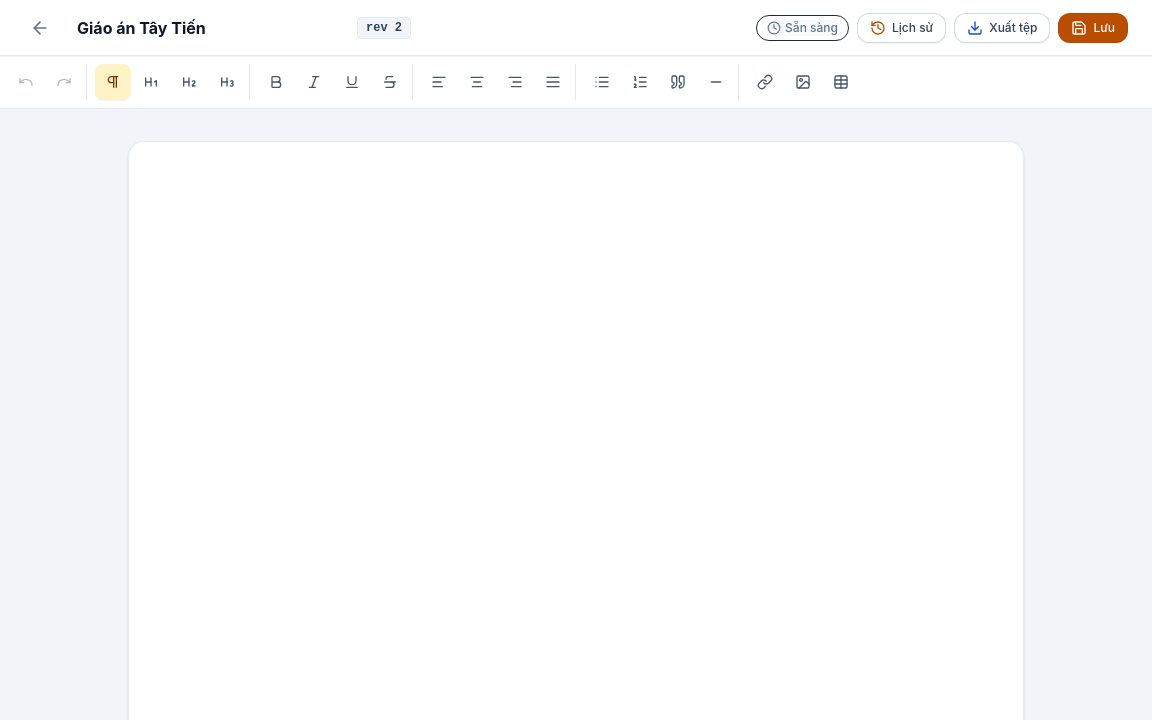
Test case: DocumentEditorPage › opens ExportModal when clicking "Xuất tệp"
This screenshot has width=1152, height=720.
Expected: the field showing "Giáo án Tây Tiến" is shown, [68, 10, 349, 44]
Click the button "Xuất tệp": click(1002, 28) [954, 12, 1050, 42]
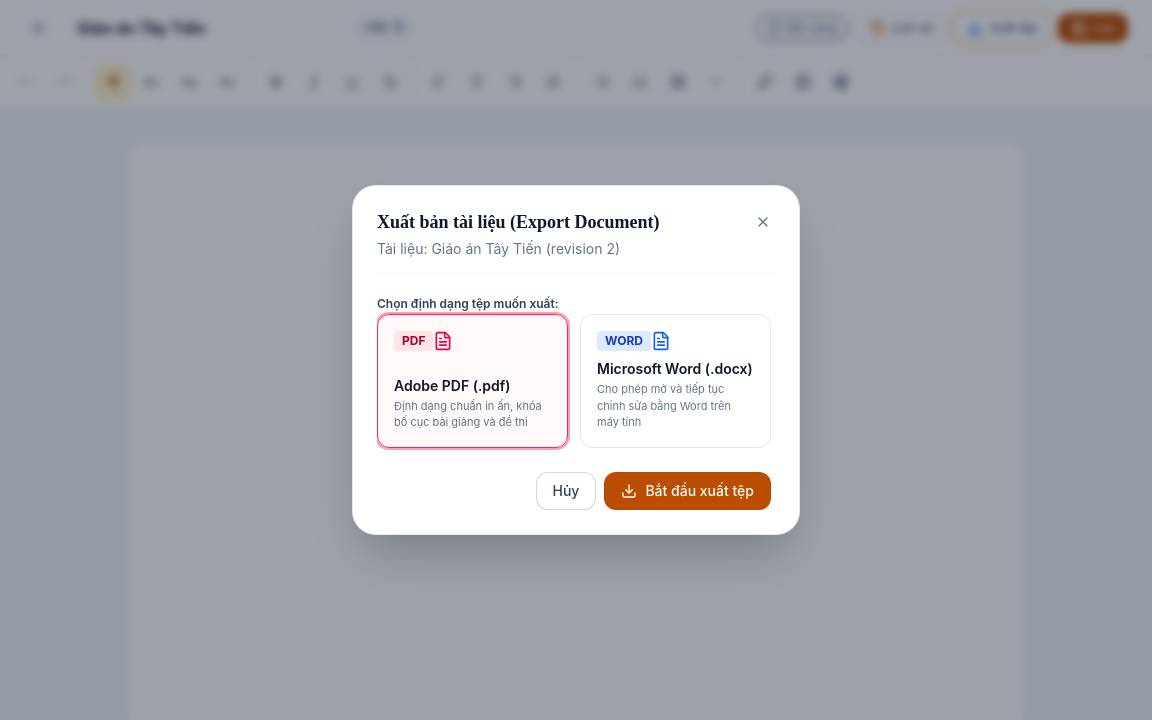
Expected: the heading "Xuất bản tài liệu (Export Document)" is shown, [377, 210, 660, 234]
